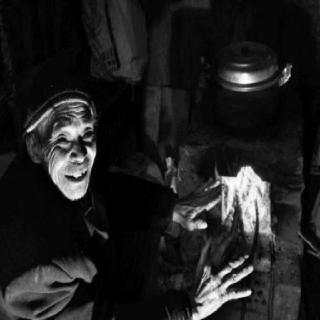Fire: (212, 170, 272, 234)
